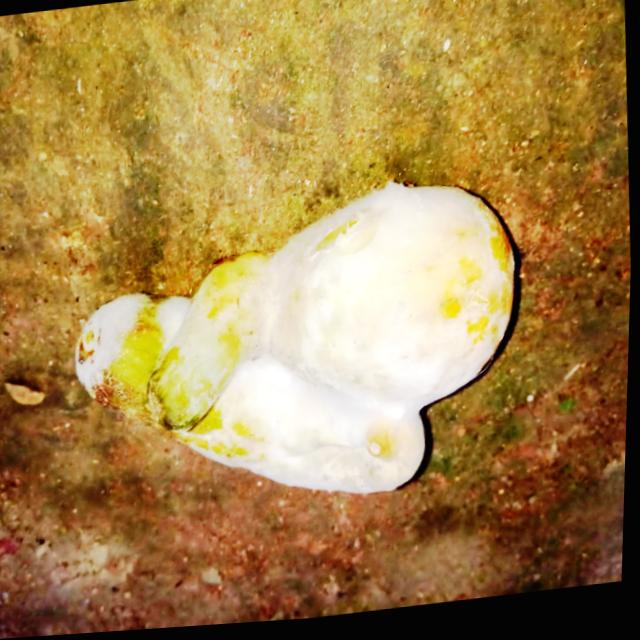Pythium-Fruit-Rot: (68, 180, 531, 534)
